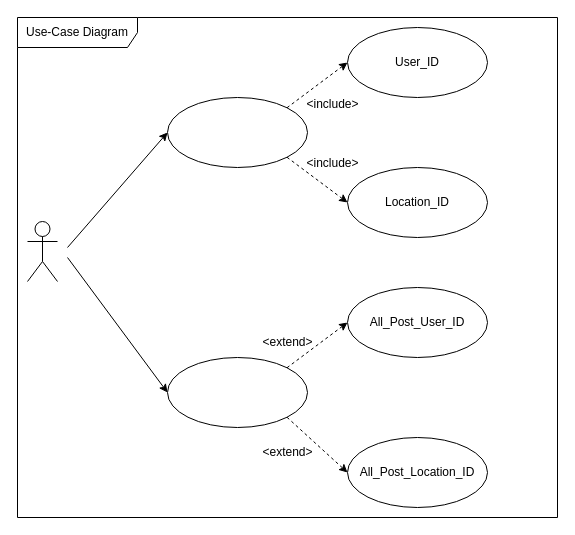
Some shapes in this 575 by 535 pixel diagram are drawn without their labels. Here are the shapes that lost their labels. From the top down, the centre of each, then its label:
At point (237, 132): "Post".
At point (42, 251): "Users".
At point (237, 392): "View_Post".
